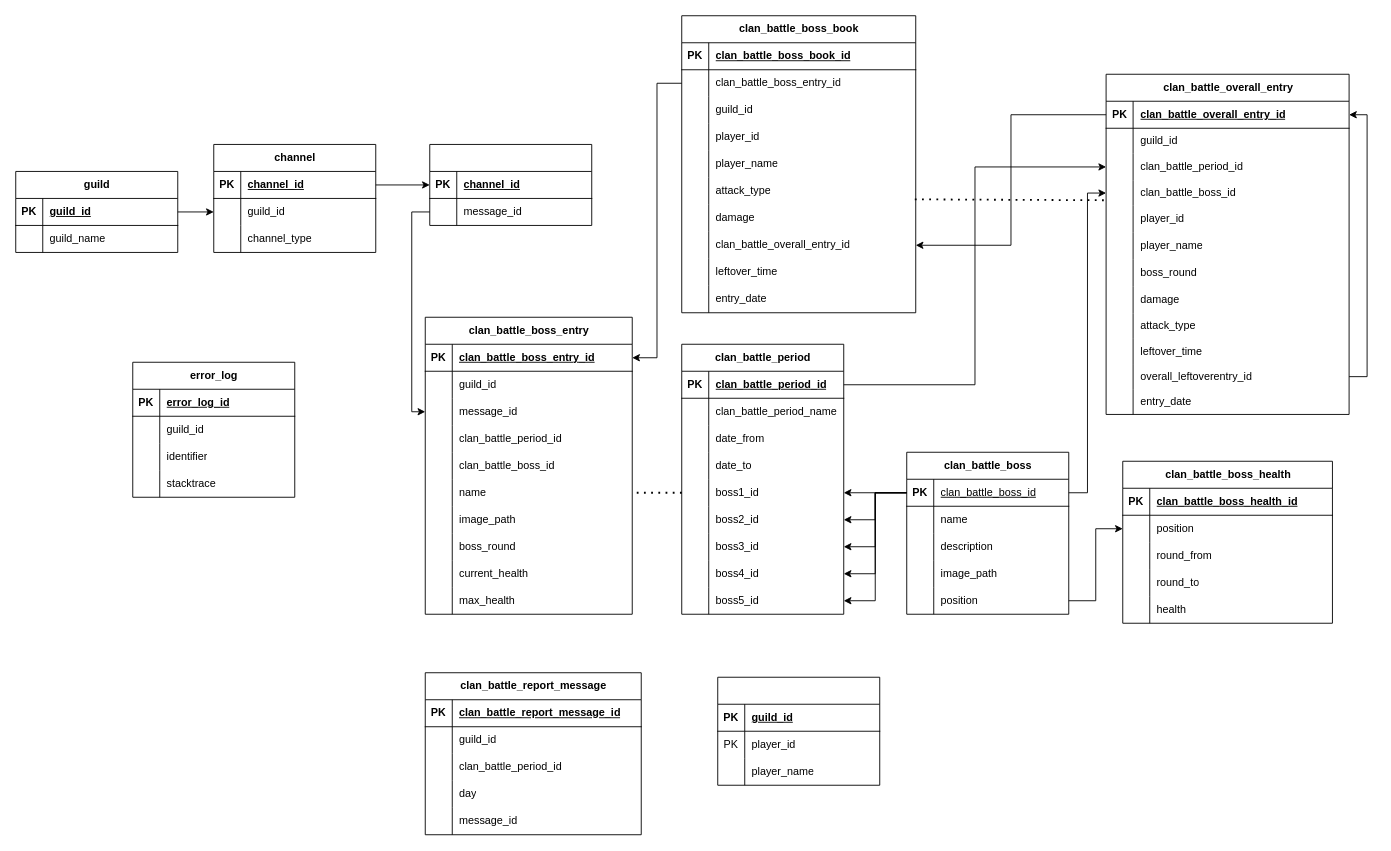
Image size: 1391x851. Some labels were removed from this diagram. Here are the shapes that lost their labels. From the top down, the box of each, then its label:
(429, 144, 592, 225): channel_message
(717, 676, 880, 785): guild_player
